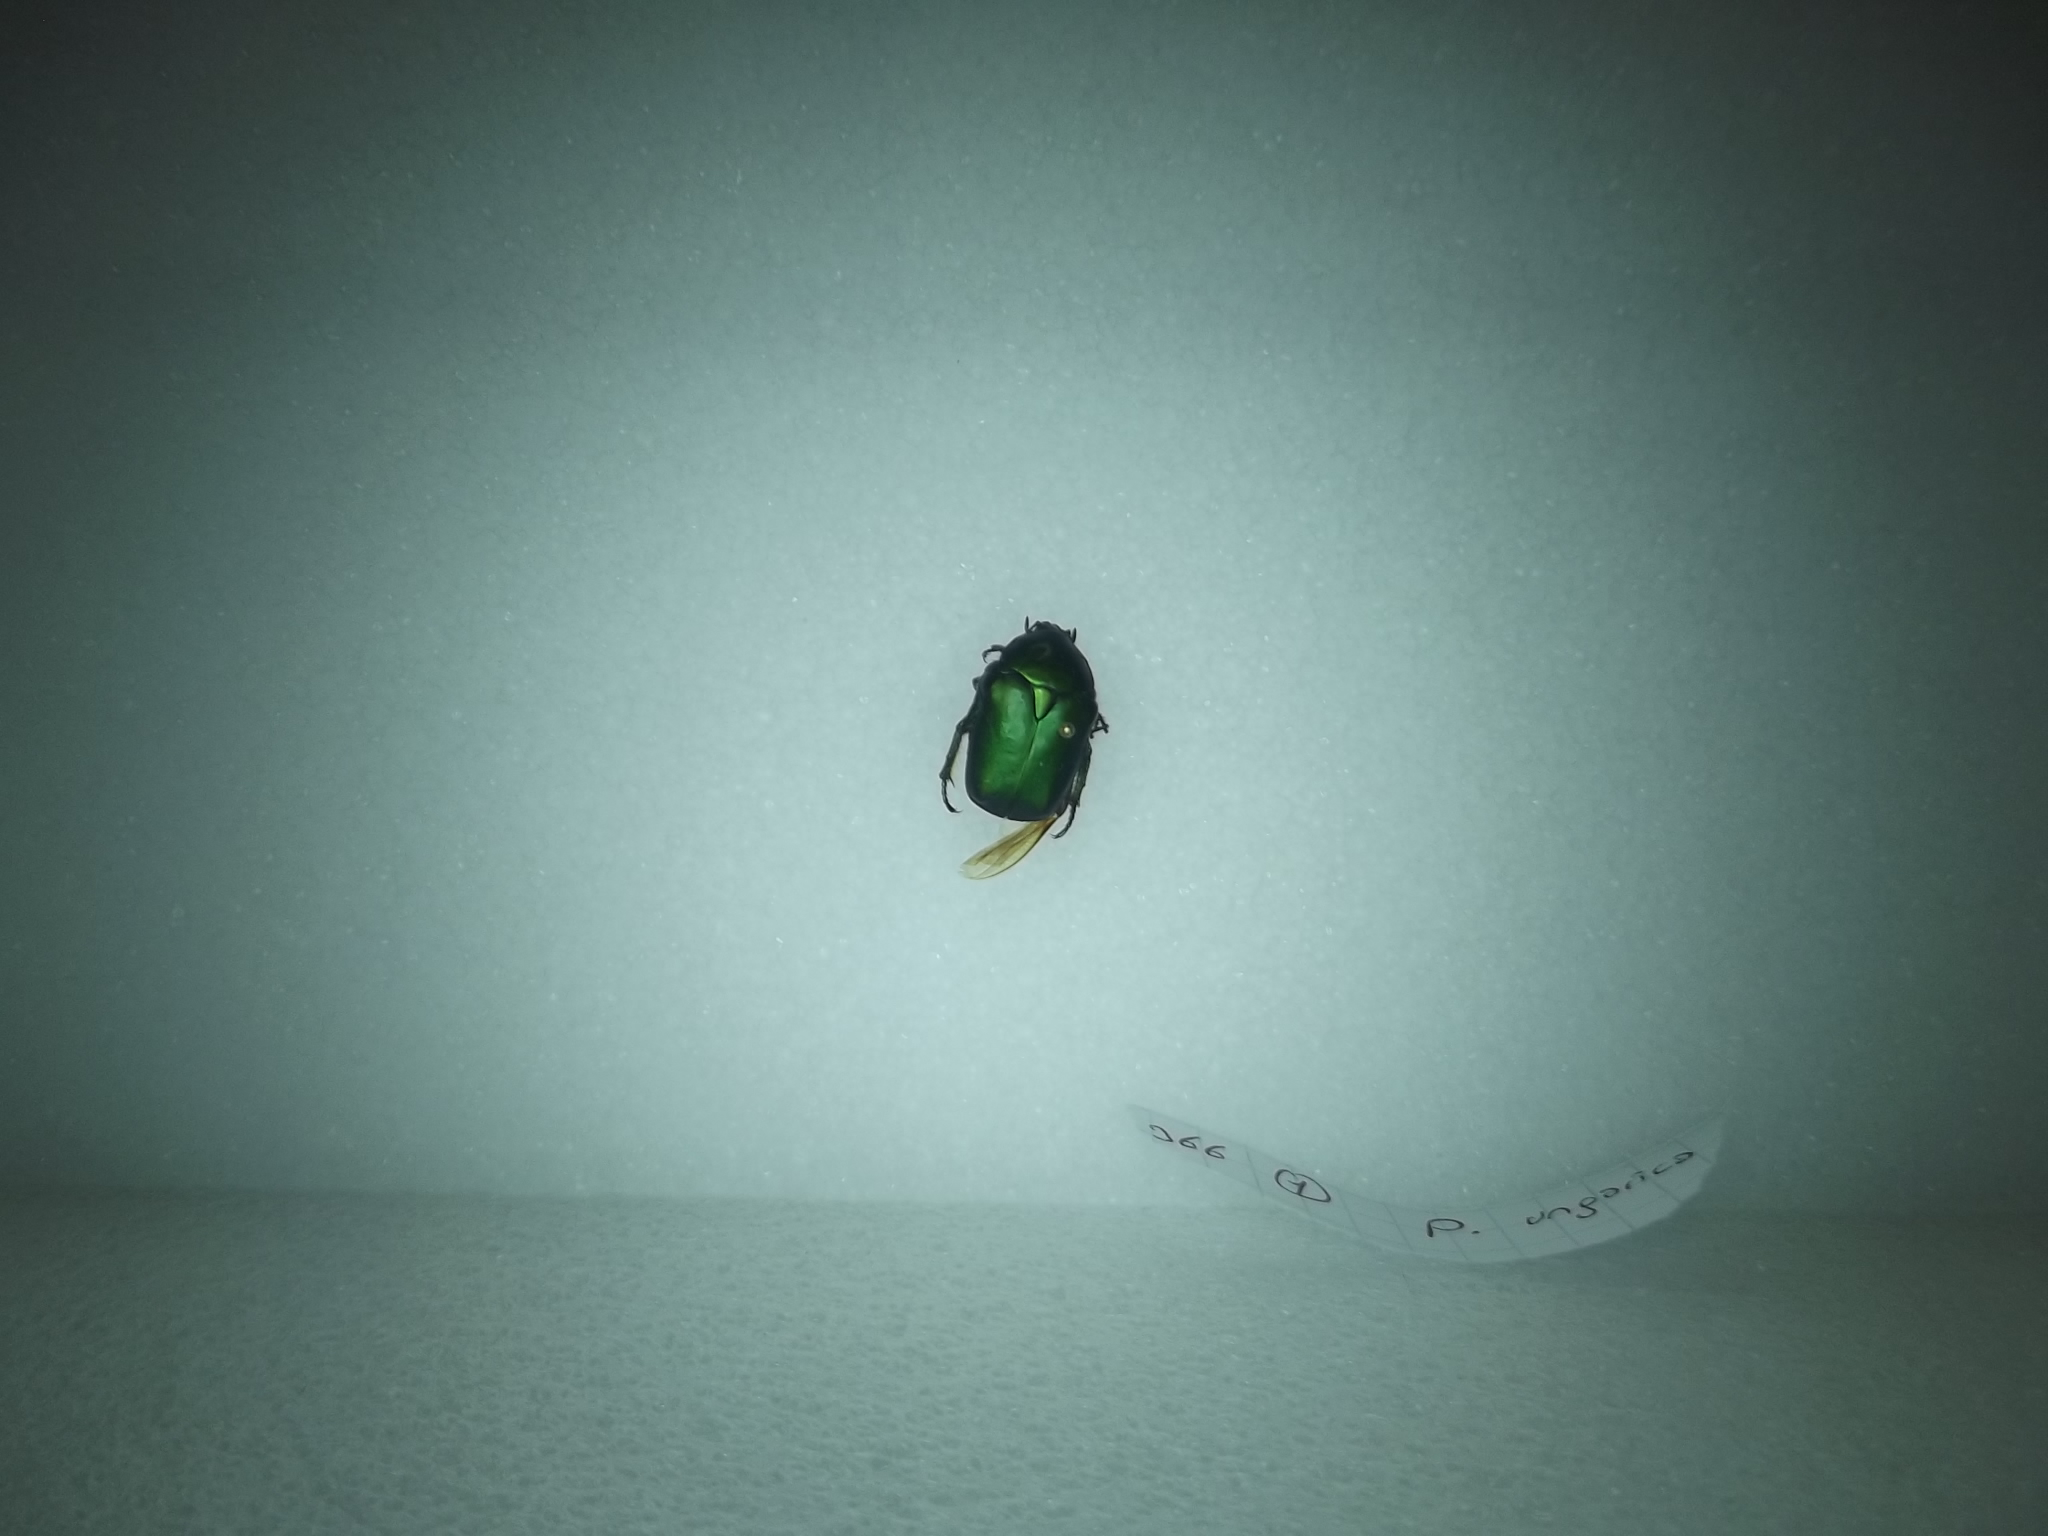Protaetia_ungarica_americana: (911, 620, 1134, 879)
